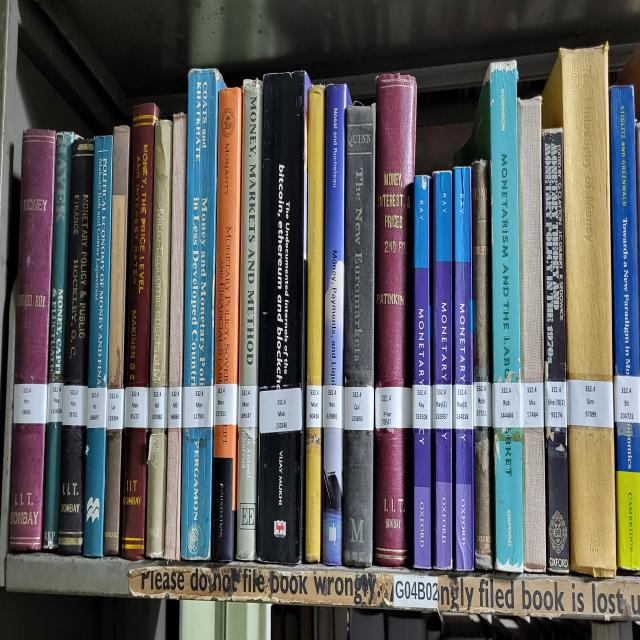Book: (542, 43, 616, 576), (461, 60, 524, 571), (256, 70, 310, 565), (180, 70, 225, 560), (374, 73, 416, 565), (9, 130, 56, 552), (121, 103, 160, 560), (58, 138, 95, 555), (343, 108, 376, 568), (211, 87, 242, 560), (44, 133, 78, 549), (322, 84, 351, 565), (236, 78, 262, 560), (542, 130, 569, 574), (84, 135, 112, 557), (146, 122, 172, 557), (104, 127, 130, 555), (471, 160, 494, 571), (454, 168, 474, 571), (432, 170, 452, 568), (412, 176, 431, 568), (518, 95, 544, 381), (306, 84, 325, 384), (169, 114, 188, 387)
Label: (566, 379, 614, 427), (259, 387, 302, 433), (375, 387, 412, 430), (14, 384, 48, 425), (182, 384, 214, 427), (492, 381, 521, 427), (344, 387, 374, 430), (614, 376, 640, 425), (62, 384, 88, 427), (521, 381, 544, 427), (545, 381, 568, 427), (452, 384, 474, 430), (124, 387, 149, 427), (214, 384, 238, 425), (322, 384, 344, 427), (432, 384, 452, 430), (86, 387, 108, 427), (412, 384, 431, 430), (474, 381, 492, 427), (106, 387, 125, 430), (239, 384, 258, 427), (149, 387, 168, 427), (46, 381, 64, 422), (306, 384, 322, 427), (168, 387, 182, 427)
